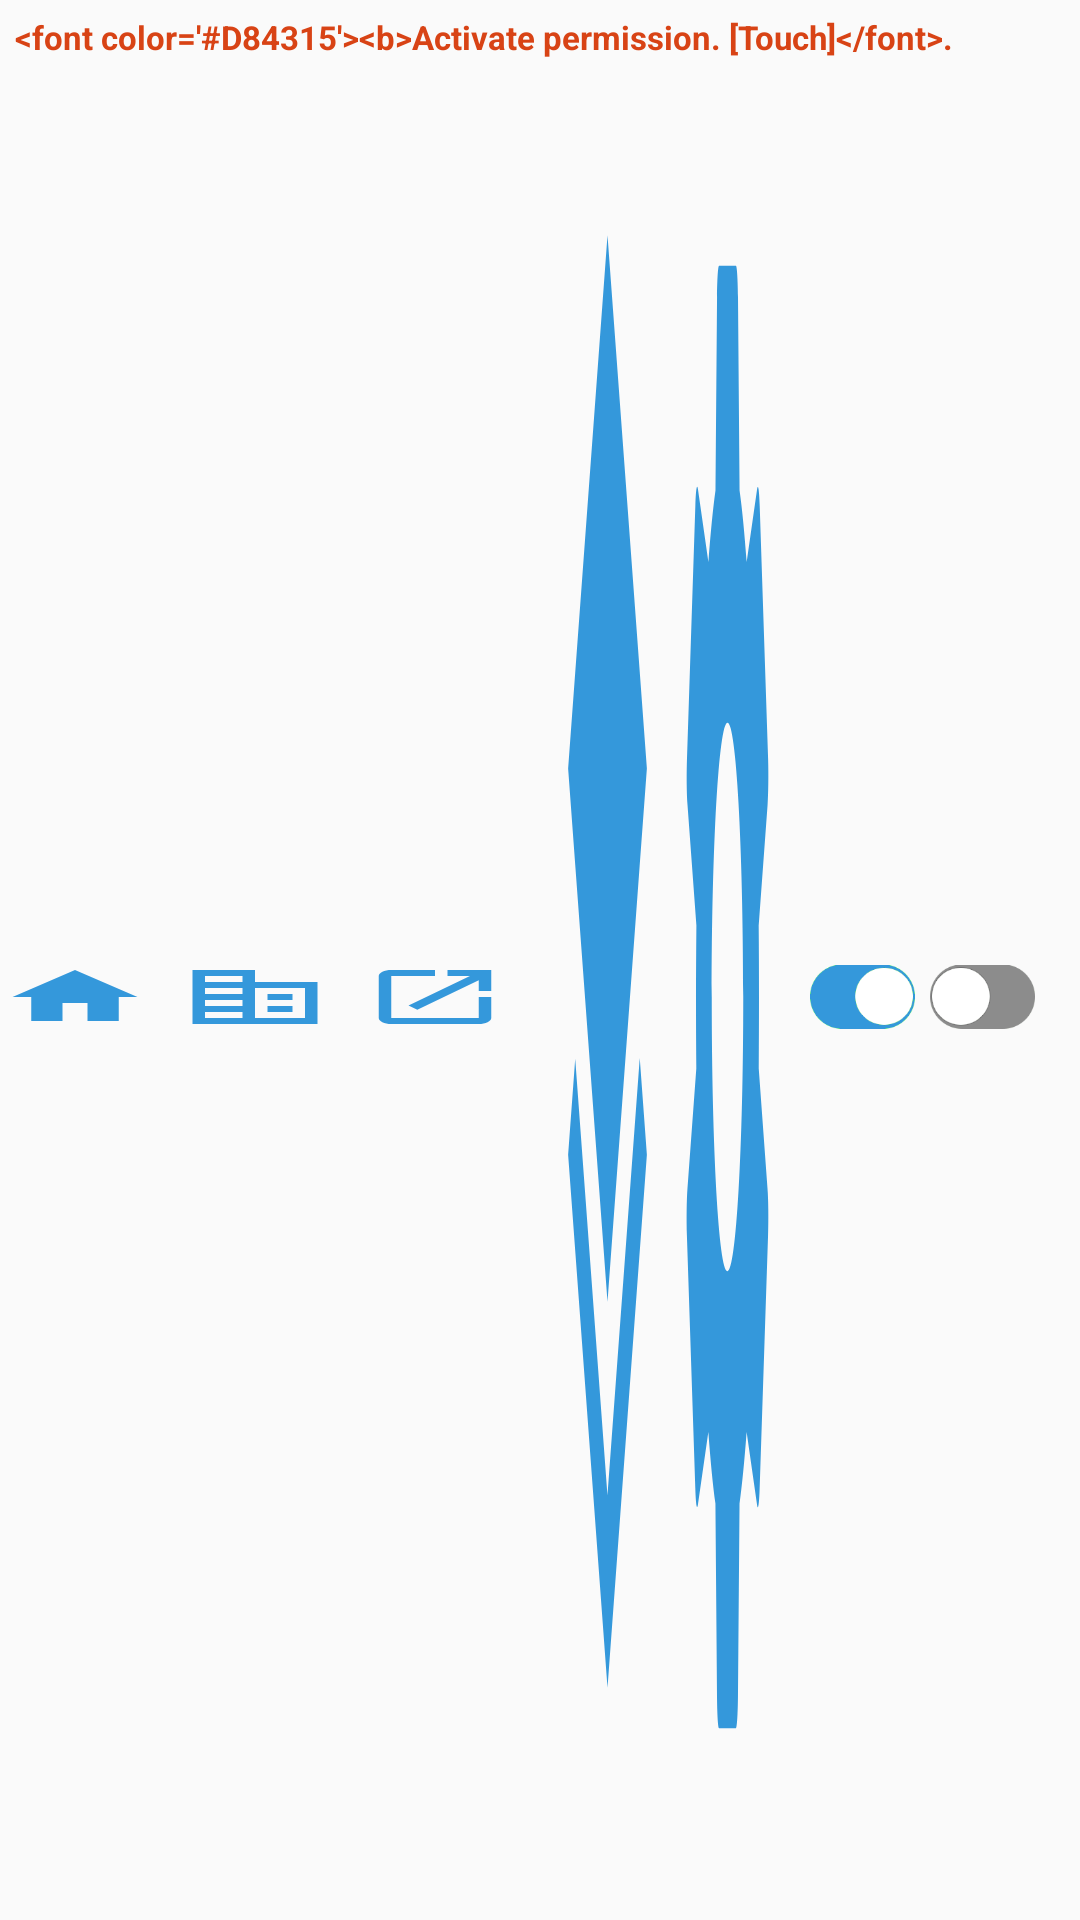

Where icons sit on this 1080×1920 app screen, as {"left": x1, "top": y1, "right": x2, "bottom": y2}:
home: {"left": 13, "top": 970, "right": 137, "bottom": 1021}
launch: {"left": 378, "top": 970, "right": 492, "bottom": 1024}
toggle off: {"left": 930, "top": 965, "right": 1035, "bottom": 1029}
toggle on: {"left": 810, "top": 965, "right": 915, "bottom": 1029}
